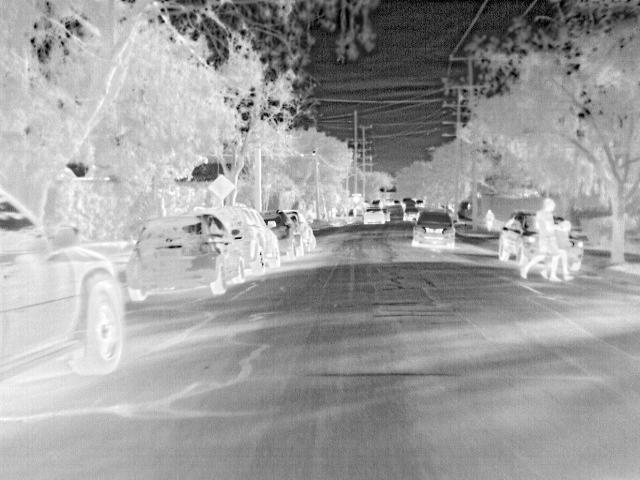car: (1, 184, 123, 378), (126, 213, 246, 302), (194, 204, 281, 274), (257, 211, 303, 260), (497, 211, 534, 265), (411, 211, 456, 247), (290, 209, 317, 253), (364, 207, 388, 227), (575, 232, 587, 266), (404, 210, 420, 224), (402, 197, 412, 206), (406, 199, 416, 208), (416, 199, 426, 208), (391, 199, 401, 206)
person: (535, 198, 559, 282), (555, 219, 575, 285), (484, 208, 496, 230)
